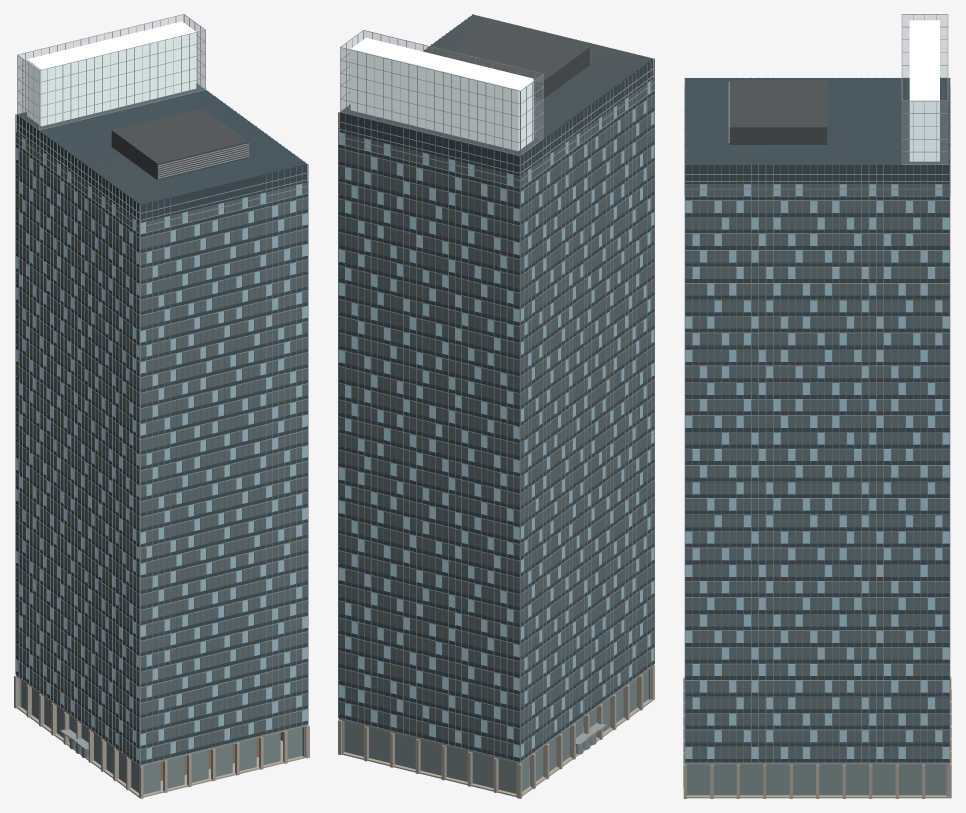
File: wacker_191.glb
The picture shows the model from 3 angles, left to right: view 1: azimuth 30°, elevation 25°; view 2: azimuth 150°, elevation 25°; view 3: azimuth 270°, elevation 25°; orthographic projection. The views are drawn at different scales.
Parts seen in each view (by area): view 1: Reflective blue grey curtain glass, Silver curtain mullions and lantern frame, Dark reflective glass spandrels, Night occupied curtain glass, Clear lantern sleeve, Night lantern solid inner volume, Roof membrane and mechanical louvers, Clear lobby glazing, Pale stone lobby piers; view 2: Reflective blue grey curtain glass, Silver curtain mullions and lantern frame, Dark reflective glass spandrels, Night occupied curtain glass, Night lantern solid inner volume, Clear lantern sleeve, Roof membrane and mechanical louvers, Clear lobby glazing, Pale stone lobby piers; view 3: Reflective blue grey curtain glass, Dark reflective glass spandrels, Silver curtain mullions and lantern frame, Night occupied curtain glass, Roof membrane and mechanical louvers, Clear lobby glazing, Night lantern solid inner volume, Clear lantern sleeve, Pale stone lobby piers.
Part boxes in pixels (left/top/right/bottom): Reflective blue grey curtain glass: left=16, top=132, right=307, bottom=760; Silver curtain mullions and lantern frame: left=15, top=14, right=308, bottom=787; Dark reflective glass spandrels: left=16, top=83, right=307, bottom=764; Night occupied curtain glass: left=16, top=137, right=307, bottom=760; Clear lantern sleeve: left=18, top=15, right=205, bottom=129; Night lantern solid inner volume: left=27, top=21, right=196, bottom=126; Roof membrane and mechanical louvers: left=22, top=96, right=272, bottom=203; Clear lobby glazing: left=19, top=679, right=304, bottom=794; Pale stone lobby piers: left=14, top=675, right=309, bottom=798; Reflective blue grey curtain glass: left=338, top=78, right=654, bottom=756; Silver curtain mullions and lantern frame: left=338, top=14, right=654, bottom=795; Dark reflective glass spandrels: left=338, top=14, right=654, bottom=761; Night occupied curtain glass: left=338, top=81, right=654, bottom=757; Night lantern solid inner volume: left=350, top=37, right=533, bottom=150; Clear lantern sleeve: left=341, top=31, right=543, bottom=154; Roof membrane and mechanical louvers: left=340, top=15, right=652, bottom=155; Clear lobby glazing: left=342, top=669, right=650, bottom=793; Pale stone lobby piers: left=338, top=665, right=654, bottom=798; Reflective blue grey curtain glass: left=685, top=184, right=949, bottom=758; Dark reflective glass spandrels: left=685, top=78, right=949, bottom=762; Silver curtain mullions and lantern frame: left=684, top=14, right=950, bottom=796; Night occupied curtain glass: left=685, top=184, right=949, bottom=758; Roof membrane and mechanical louvers: left=685, top=78, right=949, bottom=164; Clear lobby glazing: left=687, top=764, right=947, bottom=795; Night lantern solid inner volume: left=909, top=20, right=939, bottom=161; Clear lantern sleeve: left=902, top=15, right=947, bottom=164; Pale stone lobby piers: left=683, top=676, right=951, bottom=798.
Size of the model in its own units: 44.05 by 157 by 54.85.
